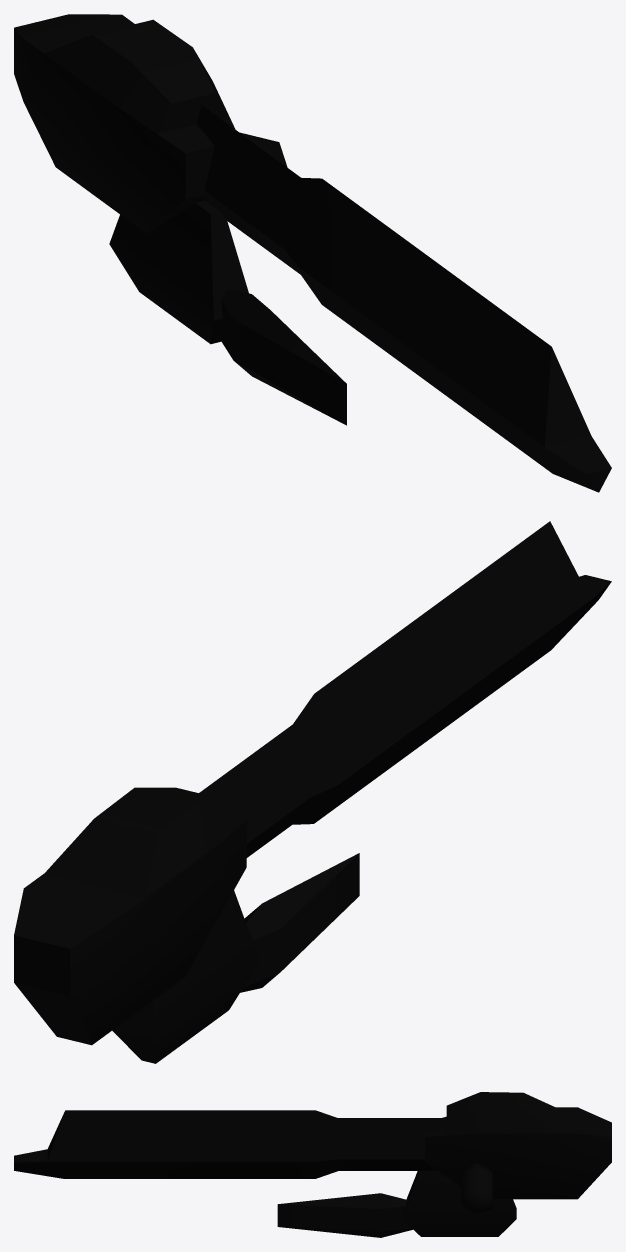
File: sensor_m_01.glb
3 renders of one model, top to bottom at view 1: azimuth 30°, elevation 25°; view 2: azimuth 150°, elevation 25°; view 3: azimuth 270°, elevation 25°, orthographic. The views are drawn at different scales.
Parts seen in each view (by area): view 1: sensor_m_01_LOD0; view 2: sensor_m_01_LOD0; view 3: sensor_m_01_LOD0.
Part boxes in pixels (box(x1,y1,x2,y2)): sensor_m_01_LOD0: box(14, 14, 611, 492); sensor_m_01_LOD0: box(14, 521, 611, 1063); sensor_m_01_LOD0: box(14, 1092, 611, 1237).
Size of the model in its own units: 0.3705 by 0.5367 by 2.1.
Materials: 1 (1 with a texture image).
